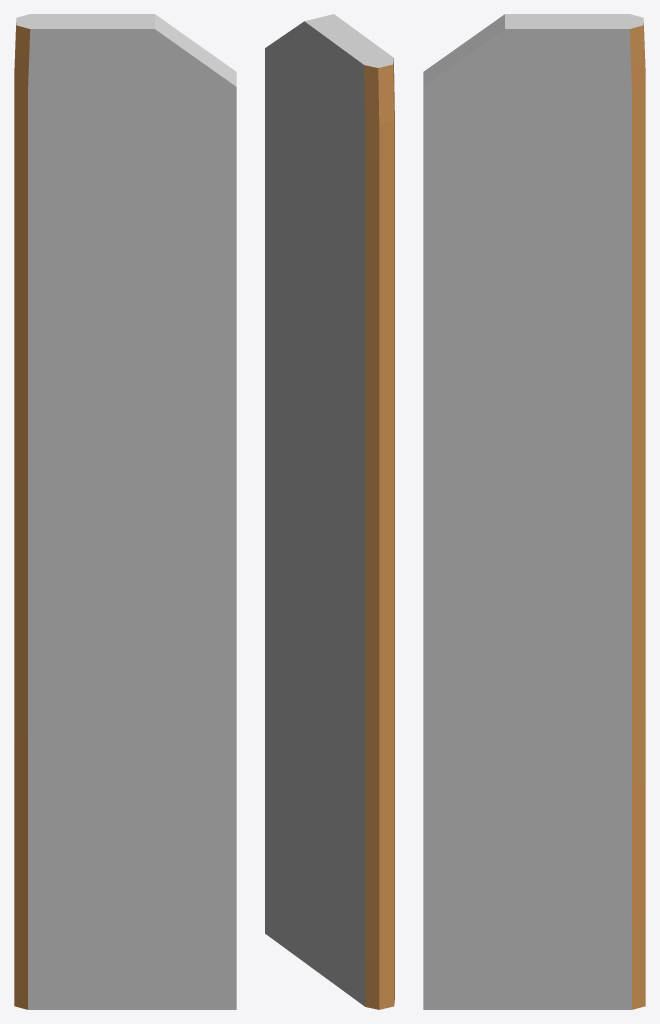
The model's file is Lift_Door_R.fbx.
3 views of the same model, side by side, from view 1: azimuth 90°, elevation 25°; view 2: azimuth 210°, elevation 25°; view 3: azimuth 270°, elevation 25° (orthographic). The views are drawn at different scales.
Visible parts, largest first — view 1: polySurface71; view 2: polySurface71; view 3: polySurface71.
Boxes of the visible parts, x1,y1,x2,y2 form: polySurface71: [14, 14, 236, 1009]; polySurface71: [265, 14, 394, 1009]; polySurface71: [423, 14, 645, 1009].
Bounding box in the file's own units: 5.14 × 156 × 32.
